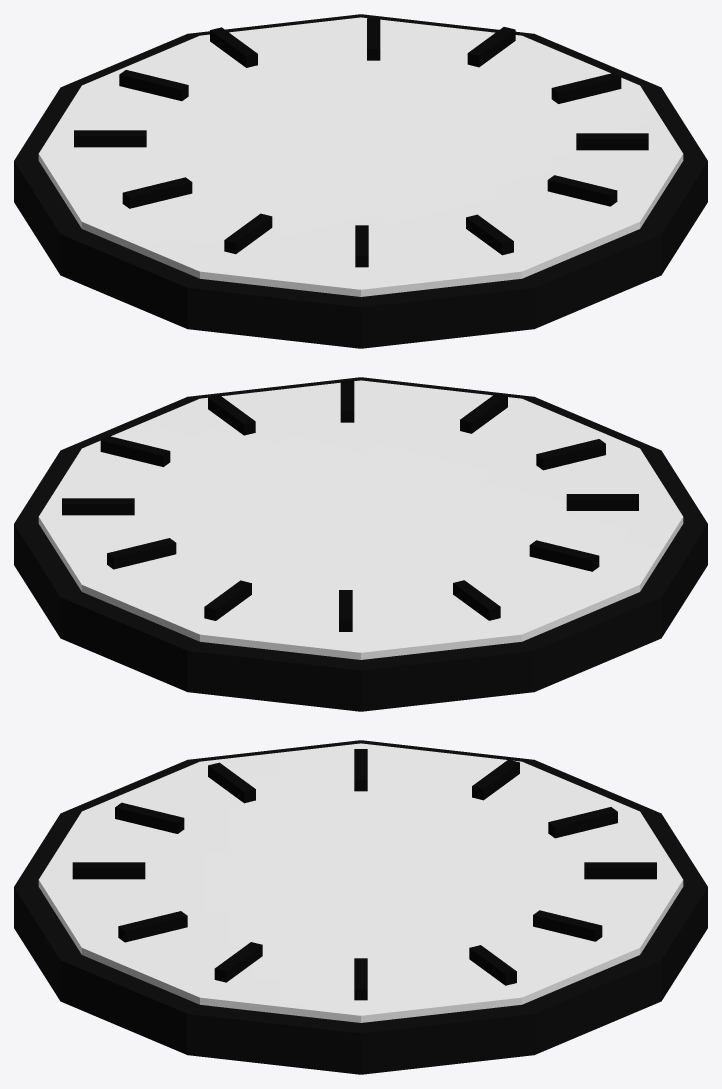
The model's file is Reloj.obj.
3 views of the same model, one above another, from view 1: azimuth 30°, elevation 25°; view 2: azimuth 150°, elevation 25°; view 3: azimuth 270°, elevation 25° (orthographic).
Visible parts, largest first — view 1: Reloj:polySurface14 polySurface8, Reloj:polySurface14 polySurface9, Reloj:polySurface14 polySurface2, Reloj:polySurface14 polySurface14, Reloj:polySurface14 polySurface10, Reloj:polySurface14 polySurface13, polySurface1 Reloj:polySurface14, Reloj:polySurface14 polySurface6, Reloj:polySurface14 polySurface11, Reloj:polySurface14 polySurface3, Reloj:polySurface14 polySurface5, Reloj:polySurface14 polySurface7 (+2 smaller); view 2: Reloj:polySurface14 polySurface8, Reloj:polySurface14 polySurface9, Reloj:polySurface14 polySurface3, Reloj:polySurface14 polySurface13, polySurface1 Reloj:polySurface14, Reloj:polySurface14 polySurface12, Reloj:polySurface14 polySurface4, Reloj:polySurface14 polySurface11, Reloj:polySurface14 polySurface14, Reloj:polySurface14 polySurface7, Reloj:polySurface14 polySurface2, Reloj:polySurface14 polySurface5 (+2 smaller); view 3: Reloj:polySurface14 polySurface8, Reloj:polySurface14 polySurface9, Reloj:polySurface14 polySurface7, Reloj:polySurface14 polySurface5, Reloj:polySurface14 polySurface10, Reloj:polySurface14 polySurface12, Reloj:polySurface14 polySurface6, Reloj:polySurface14 polySurface4, Reloj:polySurface14 polySurface14, Reloj:polySurface14 polySurface3, Reloj:polySurface14 polySurface11, Reloj:polySurface14 polySurface2 (+2 smaller).
Boxes of the visible parts, x1=… form: Reloj:polySurface14 polySurface8: x1=38, y1=17, x2=683, y2=296; Reloj:polySurface14 polySurface9: x1=14, y1=14, x2=707, y2=348; Reloj:polySurface14 polySurface2: x1=74, y1=130, x2=146, y2=147; Reloj:polySurface14 polySurface14: x1=576, y1=133, x2=648, y2=150; Reloj:polySurface14 polySurface10: x1=547, y1=175, x2=617, y2=206; Reloj:polySurface14 polySurface13: x1=122, y1=177, x2=192, y2=208; polySurface1 Reloj:polySurface14: x1=551, y1=72, x2=621, y2=103; Reloj:polySurface14 polySurface6: x1=119, y1=70, x2=188, y2=101; Reloj:polySurface14 polySurface11: x1=224, y1=213, x2=272, y2=254; Reloj:polySurface14 polySurface3: x1=467, y1=27, x2=515, y2=67; Reloj:polySurface14 polySurface5: x1=210, y1=27, x2=257, y2=67; Reloj:polySurface14 polySurface7: x1=466, y1=214, x2=513, y2=255; Reloj:polySurface14 polySurface8: x1=38, y1=380, x2=683, y2=659; Reloj:polySurface14 polySurface9: x1=14, y1=377, x2=707, y2=711; Reloj:polySurface14 polySurface3: x1=62, y1=498, x2=134, y2=515; Reloj:polySurface14 polySurface13: x1=529, y1=540, x2=599, y2=571; polySurface1 Reloj:polySurface14: x1=100, y1=435, x2=170, y2=466; Reloj:polySurface14 polySurface12: x1=536, y1=439, x2=605, y2=470; Reloj:polySurface14 polySurface4: x1=107, y1=538, x2=176, y2=569; Reloj:polySurface14 polySurface11: x1=566, y1=494, x2=638, y2=510; Reloj:polySurface14 polySurface14: x1=208, y1=395, x2=255, y2=435; Reloj:polySurface14 polySurface7: x1=460, y1=393, x2=507, y2=433; Reloj:polySurface14 polySurface2: x1=453, y1=580, x2=500, y2=620; Reloj:polySurface14 polySurface5: x1=204, y1=580, x2=251, y2=620; Reloj:polySurface14 polySurface8: x1=38, y1=743, x2=683, y2=1022; Reloj:polySurface14 polySurface9: x1=14, y1=740, x2=707, y2=1074; Reloj:polySurface14 polySurface7: x1=72, y1=862, x2=145, y2=879; Reloj:polySurface14 polySurface5: x1=584, y1=862, x2=656, y2=879; Reloj:polySurface14 polySurface10: x1=118, y1=911, x2=187, y2=942; Reloj:polySurface14 polySurface12: x1=115, y1=802, x2=184, y2=833; Reloj:polySurface14 polySurface6: x1=548, y1=807, x2=617, y2=838; Reloj:polySurface14 polySurface4: x1=533, y1=910, x2=602, y2=941; Reloj:polySurface14 polySurface14: x1=214, y1=942, x2=262, y2=982; Reloj:polySurface14 polySurface3: x1=469, y1=945, x2=516, y2=985; Reloj:polySurface14 polySurface11: x1=208, y1=762, x2=255, y2=803; Reloj:polySurface14 polySurface2: x1=472, y1=759, x2=519, y2=800.
Bounding box in the file's own units: 2.15 × 0.2206 × 2.15.
Materials: 3 (2 with a texture image).
